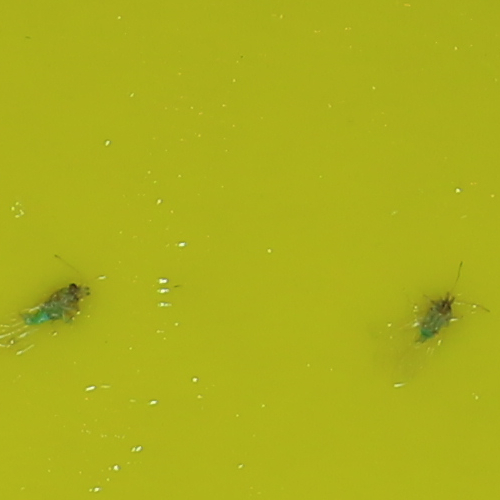Glycaspis: (22, 280, 92, 326), (413, 296, 456, 338)
